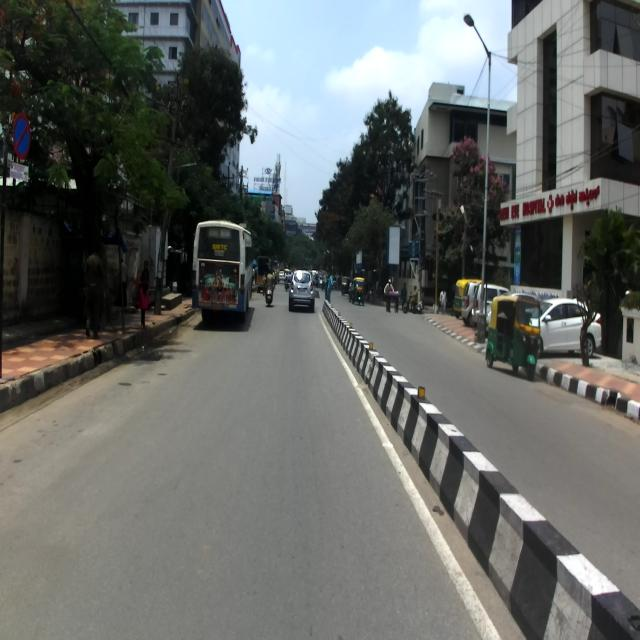auto ahead at: (482, 289, 546, 385)
bus ahead at: (191, 220, 256, 329)
